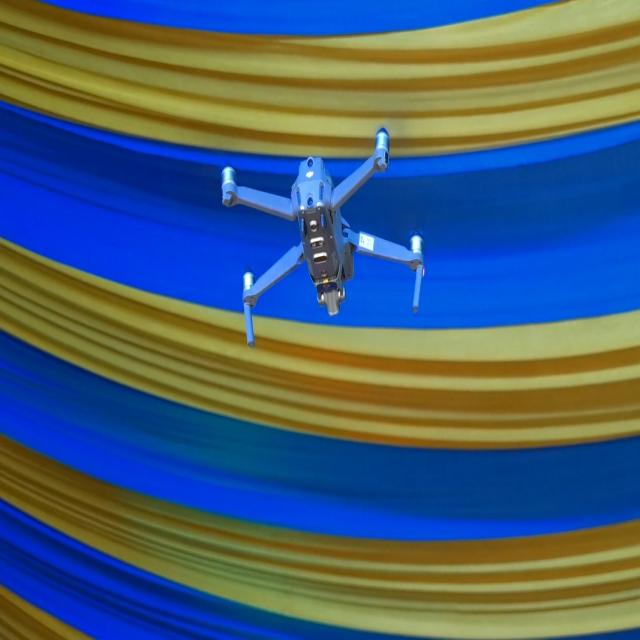Drone: (218, 129, 436, 354)
